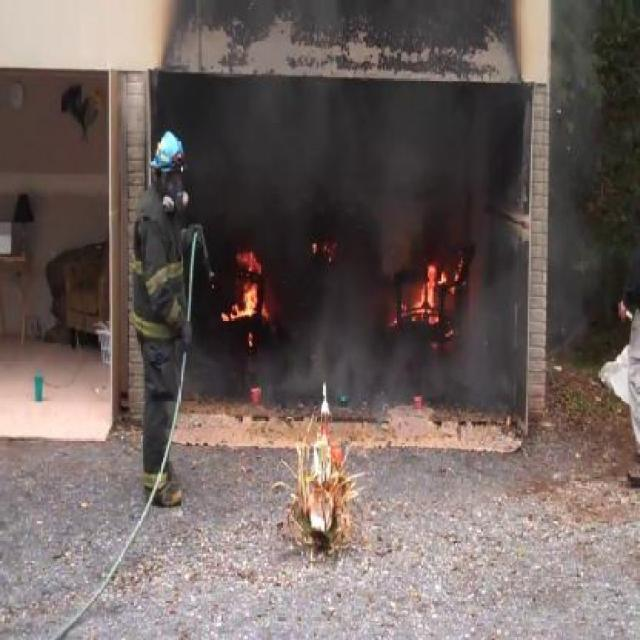fire: (376, 225, 490, 361), (208, 251, 290, 335)
smoke: (138, 76, 524, 398)
